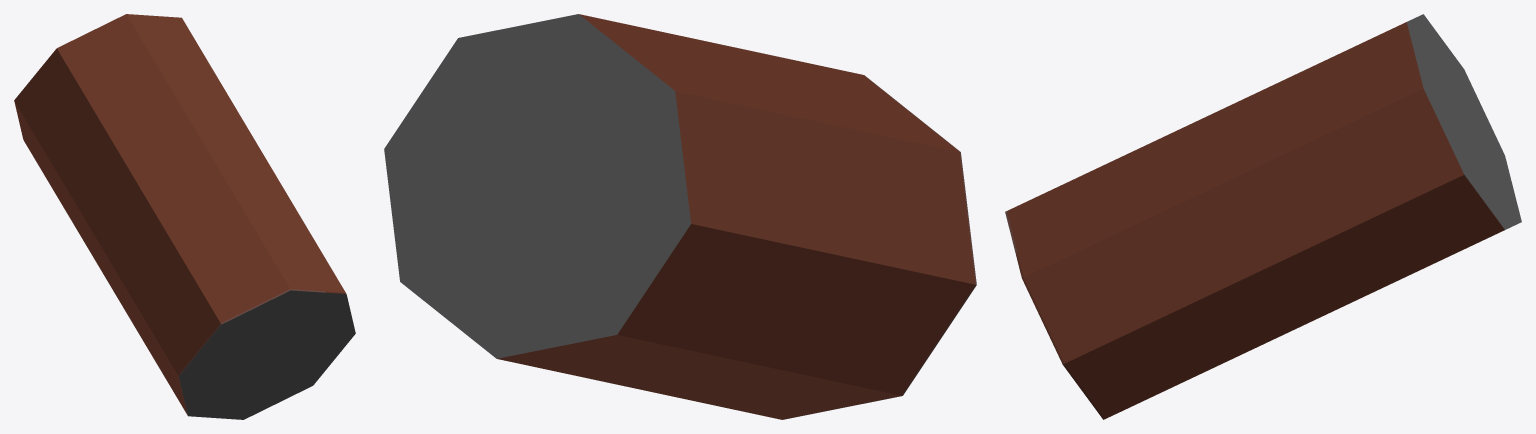
Rendered from rootbeer.glb.
The picture shows the model from 3 angles, left to right: view 1: azimuth 30°, elevation 25°; view 2: azimuth 150°, elevation 25°; view 3: azimuth 270°, elevation 25°; orthographic projection. The views are drawn at different scales.
Visible parts, largest first — view 1: rootBeer; view 2: rootBeer; view 3: rootBeer.
Boxes of the visible parts, bbox=[...] form: rootBeer: bbox=[14, 14, 355, 419]; rootBeer: bbox=[384, 14, 976, 419]; rootBeer: bbox=[1005, 14, 1521, 419].
Bounding box in the file's own units: 0.066 × 0.114 × 0.1369.
Materials: 1 (1 with a texture image).
